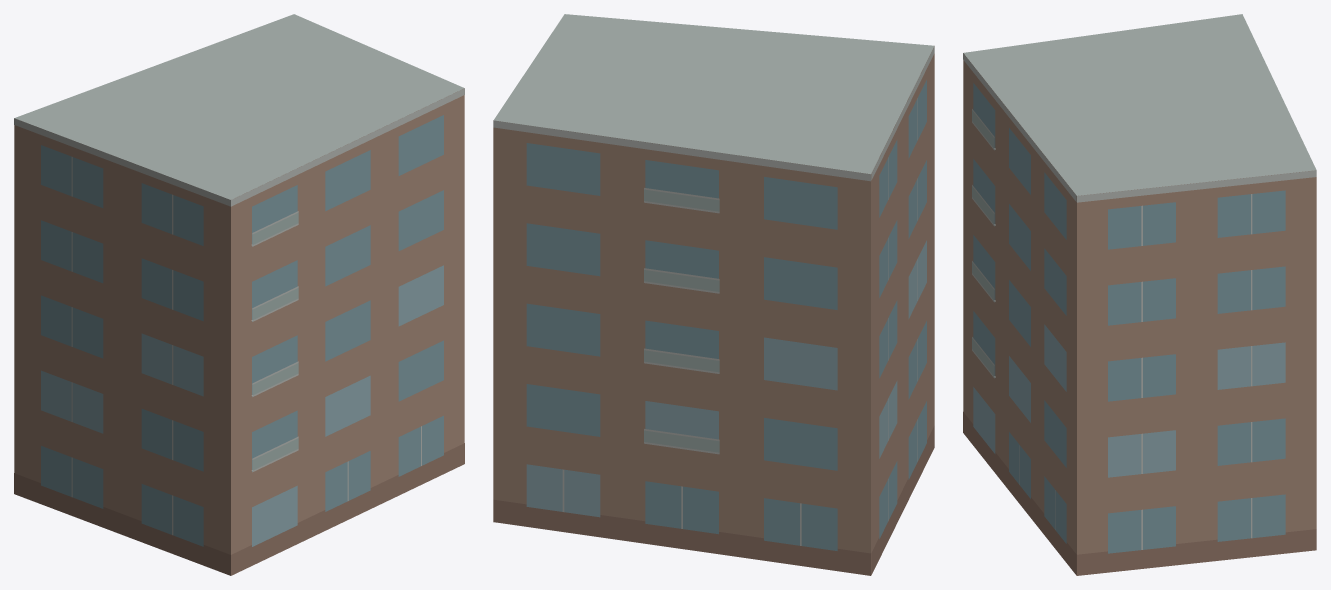
File: survey-upis-32671587.glb
The picture shows the model from 3 angles, left to right: view 1: azimuth 30°, elevation 25°; view 2: azimuth 150°, elevation 25°; view 3: azimuth 270°, elevation 25°; orthographic projection. The views are drawn at different scales.
Parts seen in each view (by area): view 1: survey-upis-32671587.tmp; view 2: survey-upis-32671587.tmp; view 3: survey-upis-32671587.tmp.
Part boxes in pixels (<box>): survey-upis-32671587.tmp: <box>14,14,464,575</box>; survey-upis-32671587.tmp: <box>493,14,934,575</box>; survey-upis-32671587.tmp: <box>963,14,1316,575</box>.
Size of the model in its own units: 14.07 by 13.7 by 11.56.
